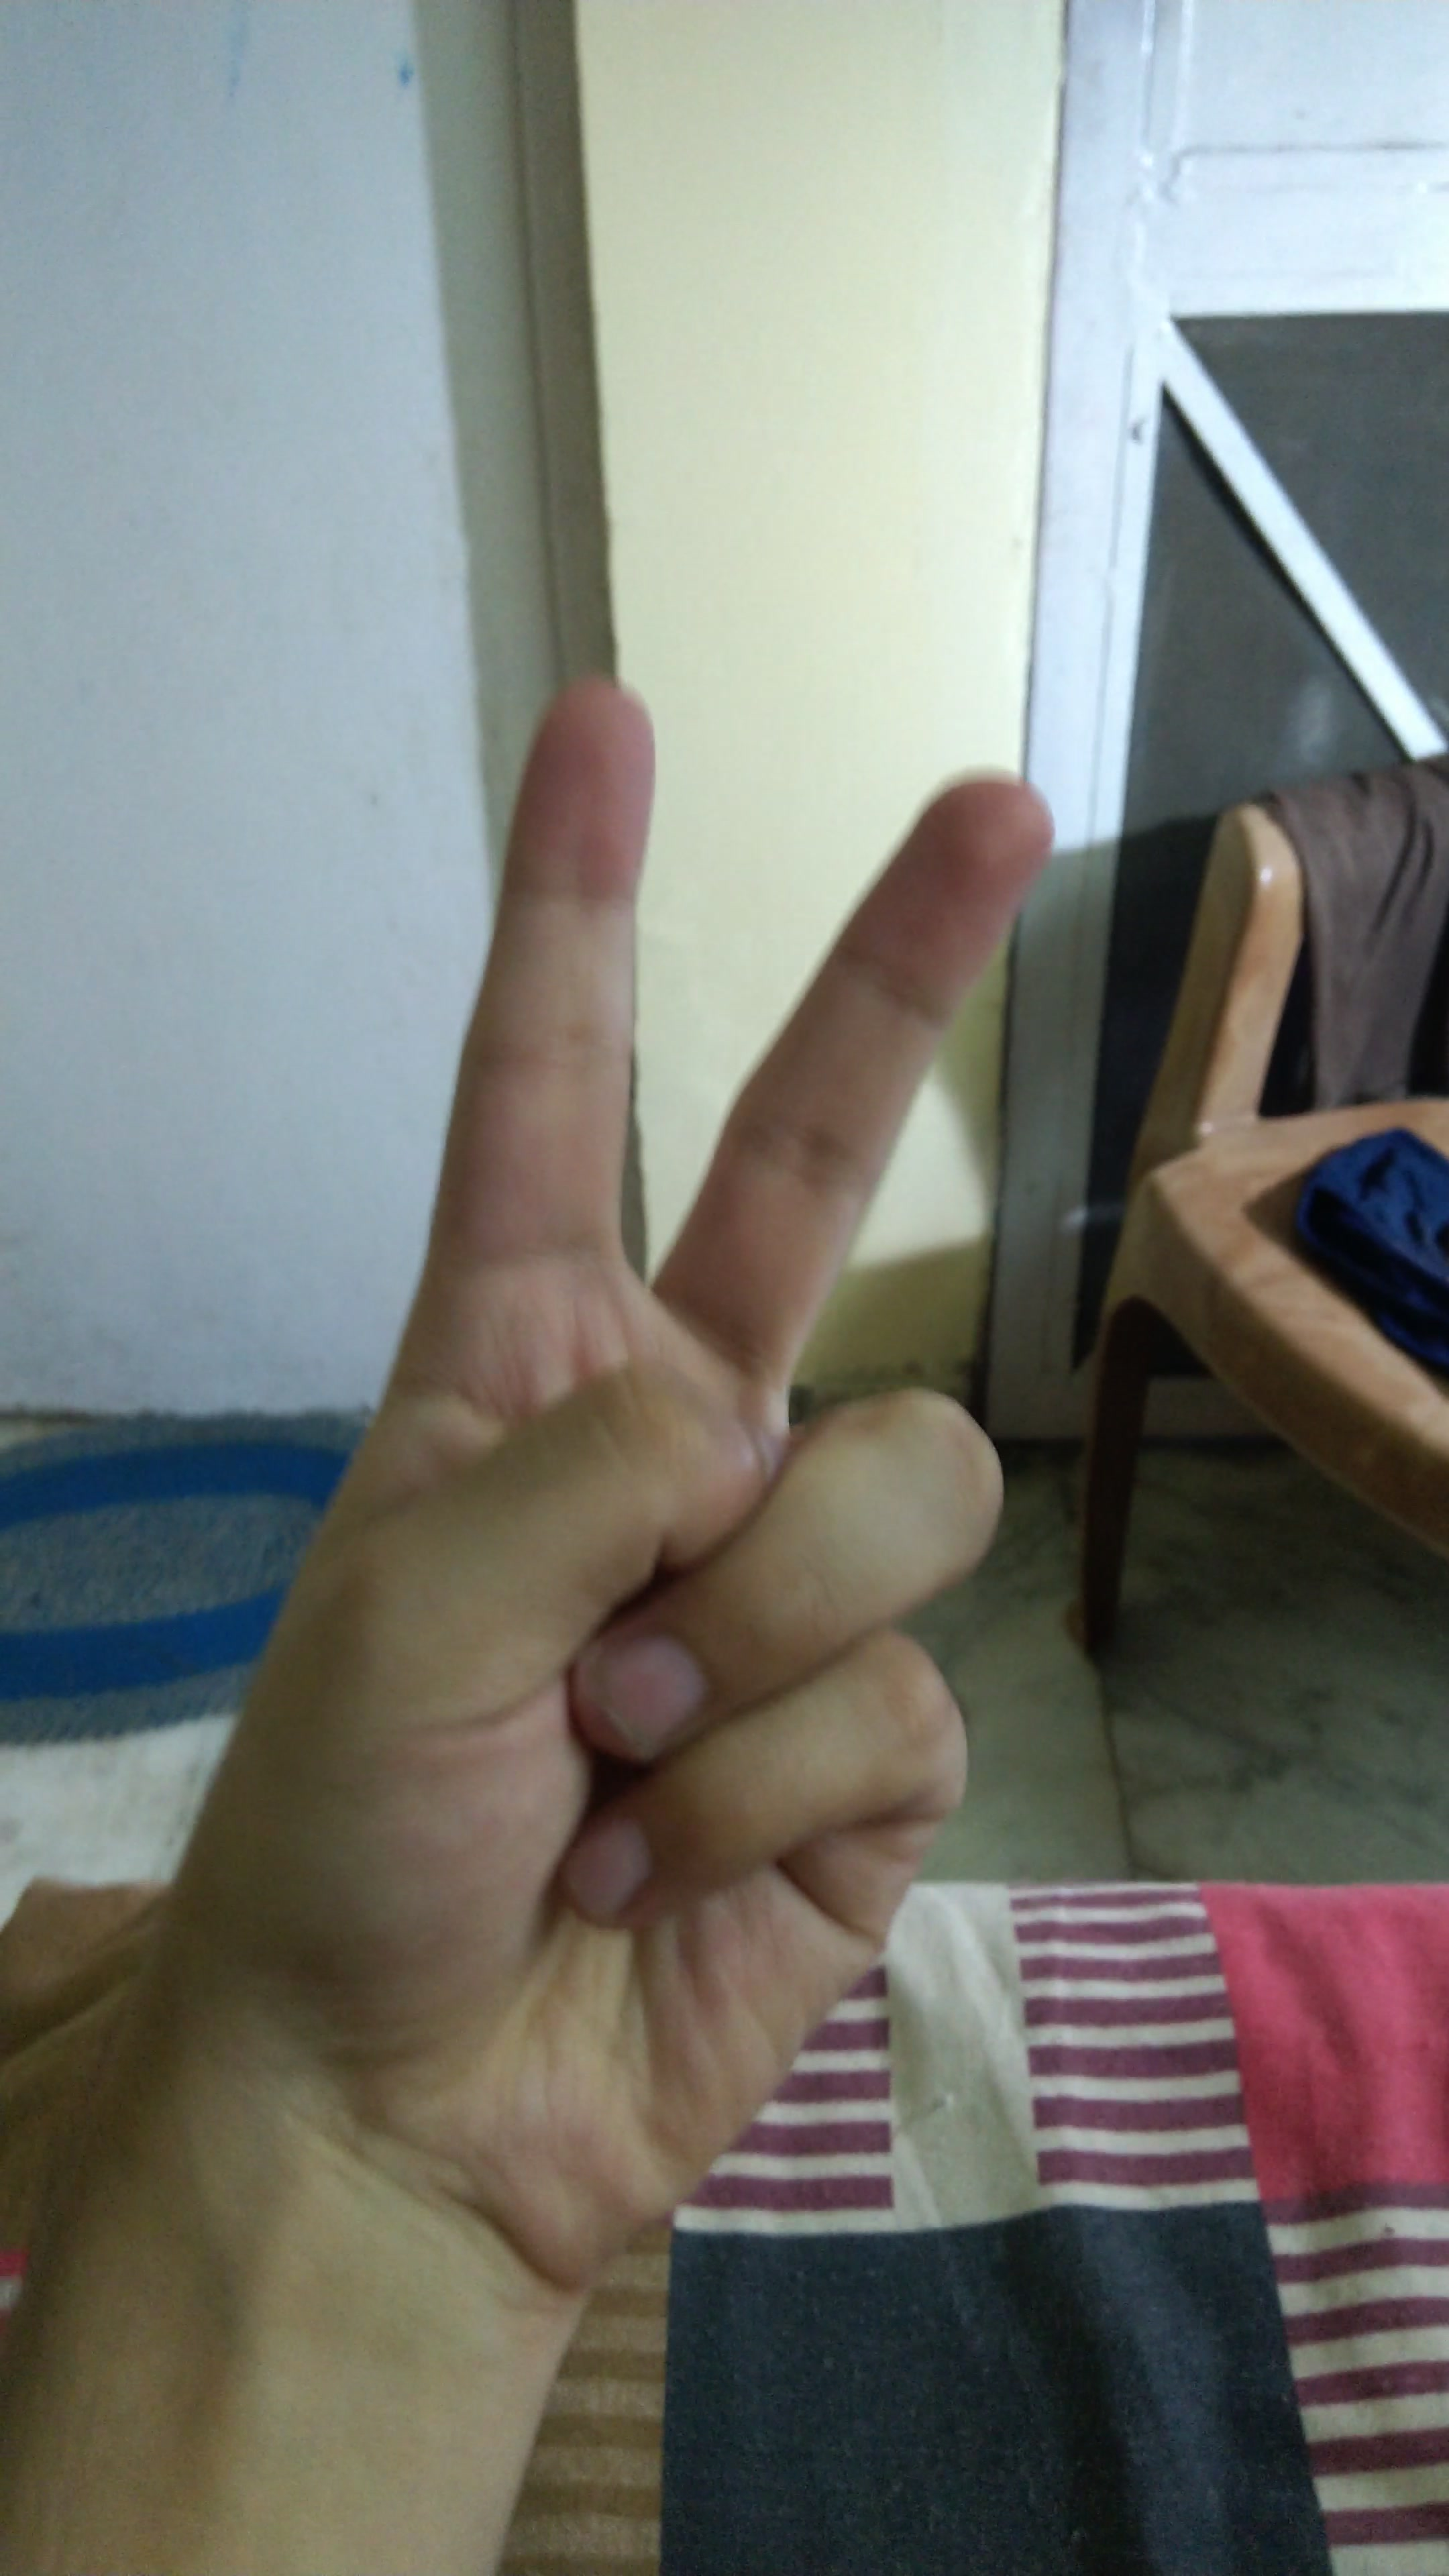hand: (80, 633, 1077, 2325)
